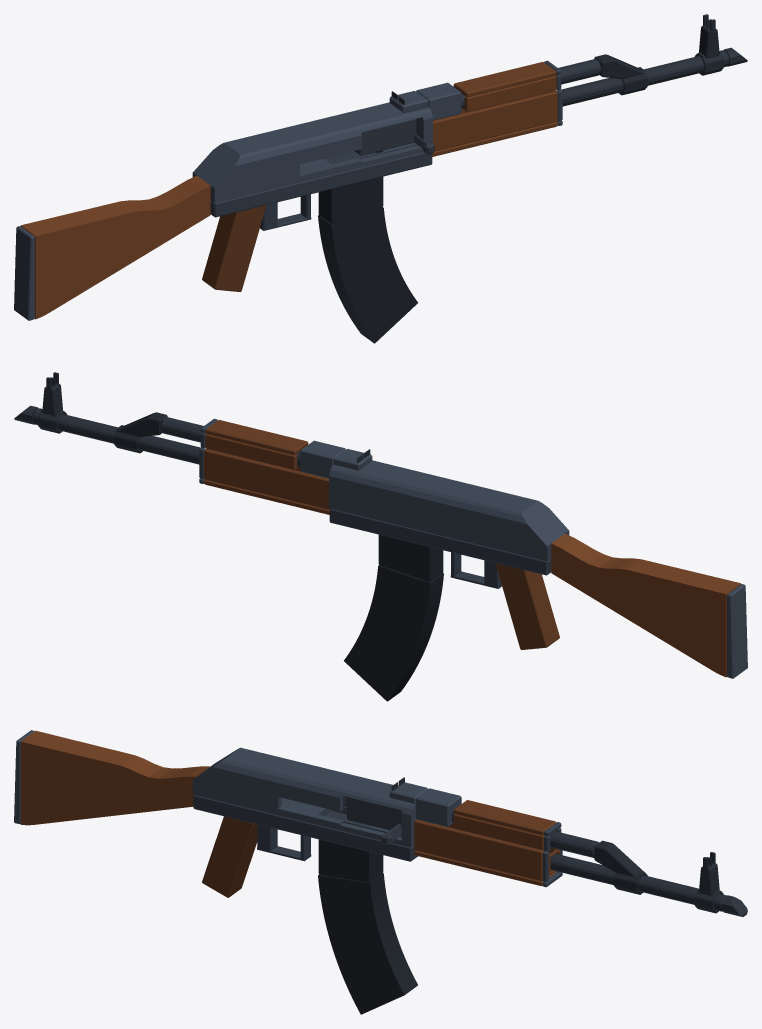
File: rifle_ak.glb
3 renders of one model, top to bottom at view 1: azimuth 30°, elevation 25°; view 2: azimuth 150°, elevation 25°; view 3: azimuth 330°, elevation 25°, orthographic.
Visible parts, largest first — view 1: stock:stock, receiver:ak-receiver, magazine:magazine, handguard:handguard, lower:lower, grip:grip, barrel:barrel, bolt-carrier:bolt-carrier, gas-block:gas-block, front-sight:front-sight, gas-cylinder:gas-cylinder; view 2: receiver:ak-receiver, stock:stock, magazine:magazine, handguard:handguard, lower:lower, grip:grip, barrel:barrel, gas-block:gas-block, front-sight:front-sight, gas-cylinder:gas-cylinder; view 3: stock:stock, receiver:ak-receiver, magazine:magazine, handguard:handguard, lower:lower, grip:grip, barrel:barrel, bolt-carrier:bolt-carrier, gas-block:gas-block, front-sight:front-sight, gas-cylinder:gas-cylinder.
Part boxes in pixels (left/top/right/bottom): stock:stock: left=14, top=175, right=210, bottom=320; receiver:ak-receiver: left=192, top=82, right=461, bottom=203; magazine:magazine: left=318, top=176, right=417, bottom=343; handguard:handguard: left=432, top=60, right=562, bottom=156; lower:lower: left=210, top=152, right=432, bottom=230; grip:grip: left=202, top=205, right=265, bottom=291; barrel:barrel: left=556, top=50, right=729, bottom=106; bolt-carrier:bolt-carrier: left=354, top=119, right=434, bottom=155; gas-block:gas-block: left=594, top=54, right=647, bottom=95; front-sight:front-sight: left=694, top=14, right=723, bottom=75; gas-cylinder:gas-cylinder: left=461, top=59, right=601, bottom=108; receiver:ak-receiver: left=300, top=440, right=569, bottom=561; stock:stock: left=551, top=533, right=747, bottom=678; magazine:magazine: left=344, top=534, right=443, bottom=701; handguard:handguard: left=199, top=418, right=329, bottom=514; lower:lower: left=329, top=508, right=551, bottom=588; grip:grip: left=496, top=563, right=559, bottom=649; barrel:barrel: left=32, top=408, right=205, bottom=464; gas-block:gas-block: left=114, top=412, right=167, bottom=453; front-sight:front-sight: left=38, top=372, right=67, bottom=433; gas-cylinder:gas-cylinder: left=160, top=417, right=300, bottom=466; stock:stock: left=14, top=730, right=209, bottom=825; receiver:ak-receiver: left=192, top=747, right=461, bottom=847; magazine:magazine: left=318, top=839, right=417, bottom=1014; handguard:handguard: left=414, top=800, right=562, bottom=887; lower:lower: left=193, top=795, right=417, bottom=861; grip:grip: left=202, top=816, right=257, bottom=897; barrel:barrel: left=544, top=851, right=726, bottom=911; bolt-carrier:bolt-carrier: left=347, top=796, right=402, bottom=845; gas-block:gas-block: left=594, top=840, right=647, bottom=894; front-sight:front-sight: left=694, top=852, right=723, bottom=913; gas-cylinder:gas-cylinder: left=452, top=811, right=599, bottom=857.
Bounding box in the file's own units: 0.8768 × 0.2756 × 0.0719.
